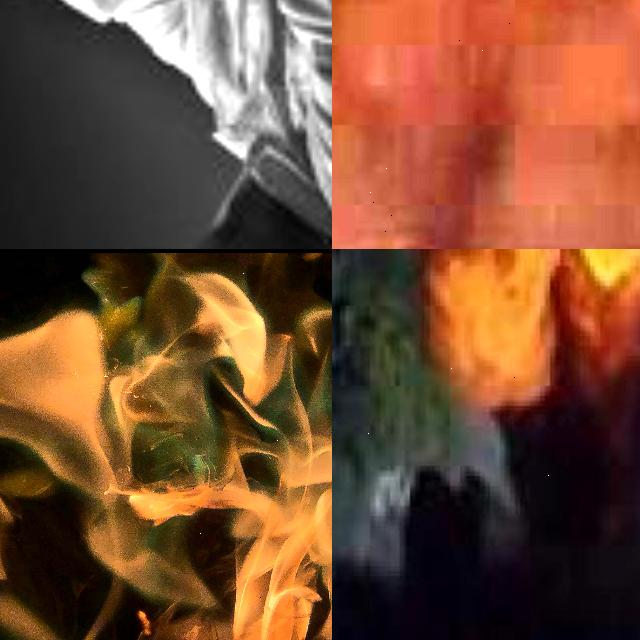fire: (0, 253, 332, 640), (423, 249, 640, 411)
smoke: (332, 373, 640, 640), (332, 0, 640, 249)
